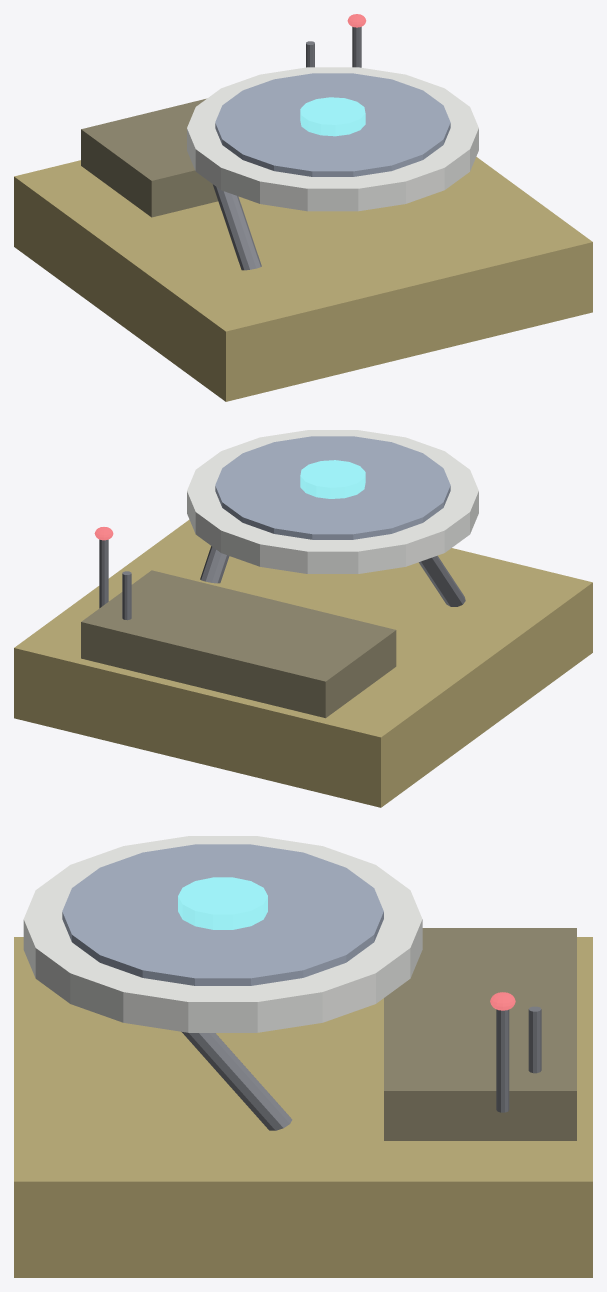
Rendered from dm_ion_uplink.glb.
3 views of the same model, one above another, from view 1: azimuth 30°, elevation 25°; view 2: azimuth 150°, elevation 25°; view 3: azimuth 270°, elevation 25° (orthographic). The views are drawn at different scales.
Visible parts, largest first — view 1: model; view 2: model; view 3: model.
Part boxes in pixels (x1,y1,x2,y2): model: (14,14,592,401); model: (14,430,592,807); model: (14,836,592,1277).
Bounding box in the file's own units: 1.9 × 0.9399 × 1.9.
